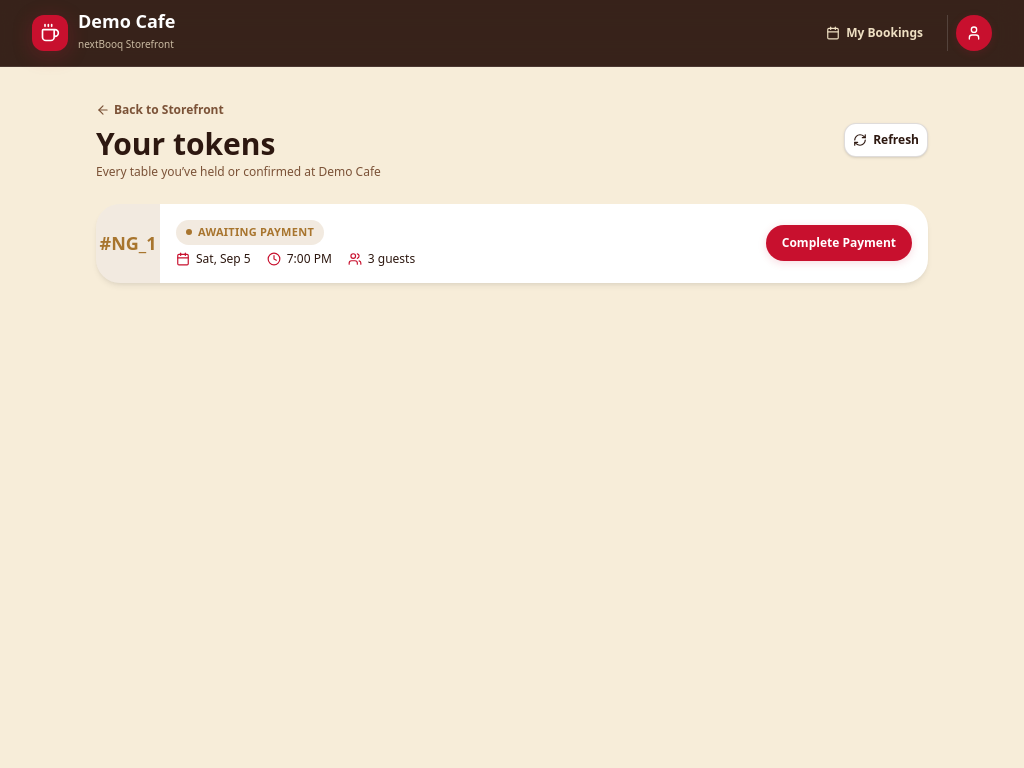
Test: MyReservationsPage — booking details › clicking a reservation opens its token, which is otherwise lost after leaving the success page
Click the button with aria-label "view token and details" at (128, 243), box [96,204,928,282]
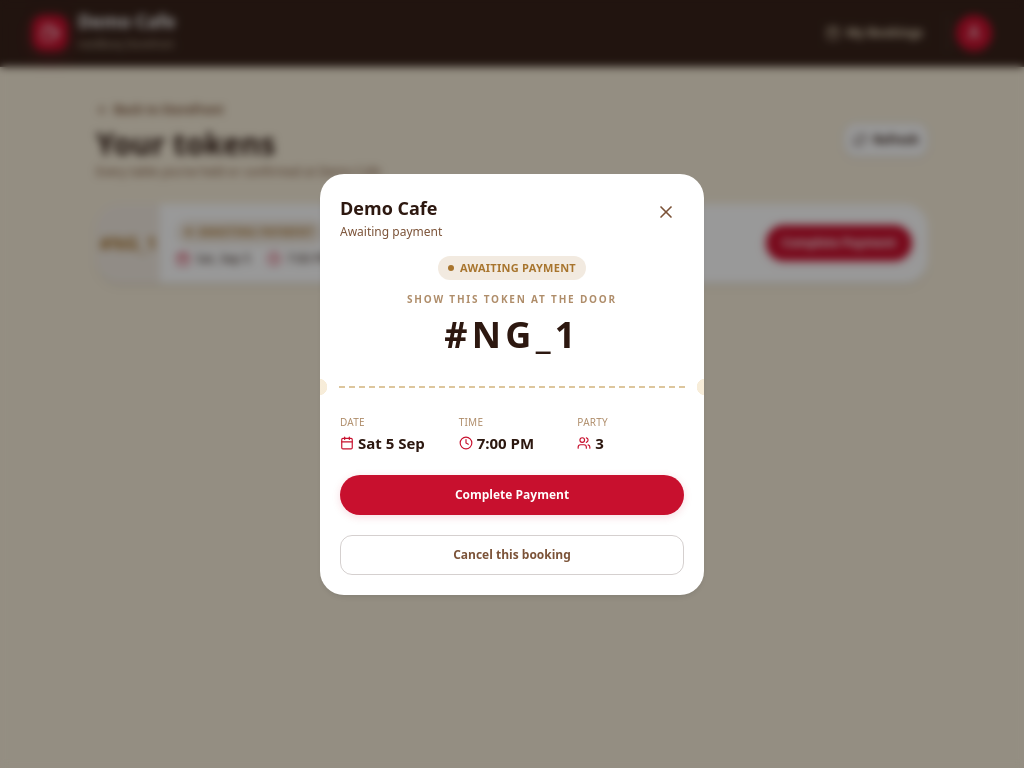
Expected: the dialog is shown
Expected: the text "#NG_1" is shown, [444,315,580,355]
